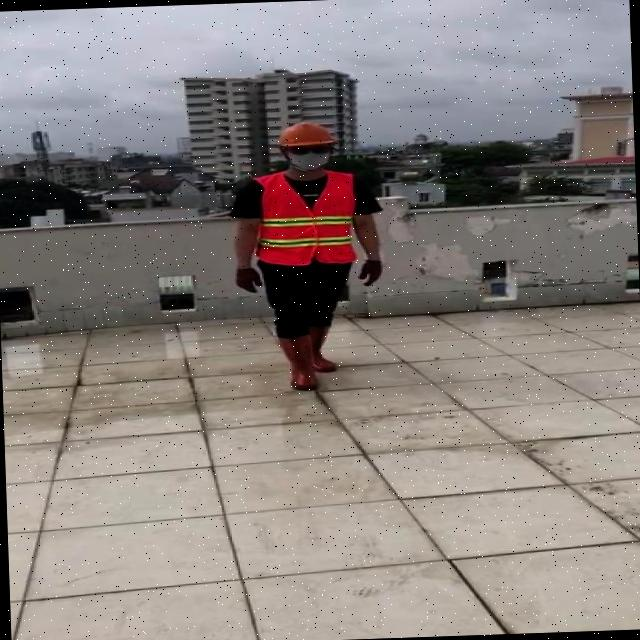boots: (276, 336, 319, 392), (306, 322, 340, 372)
